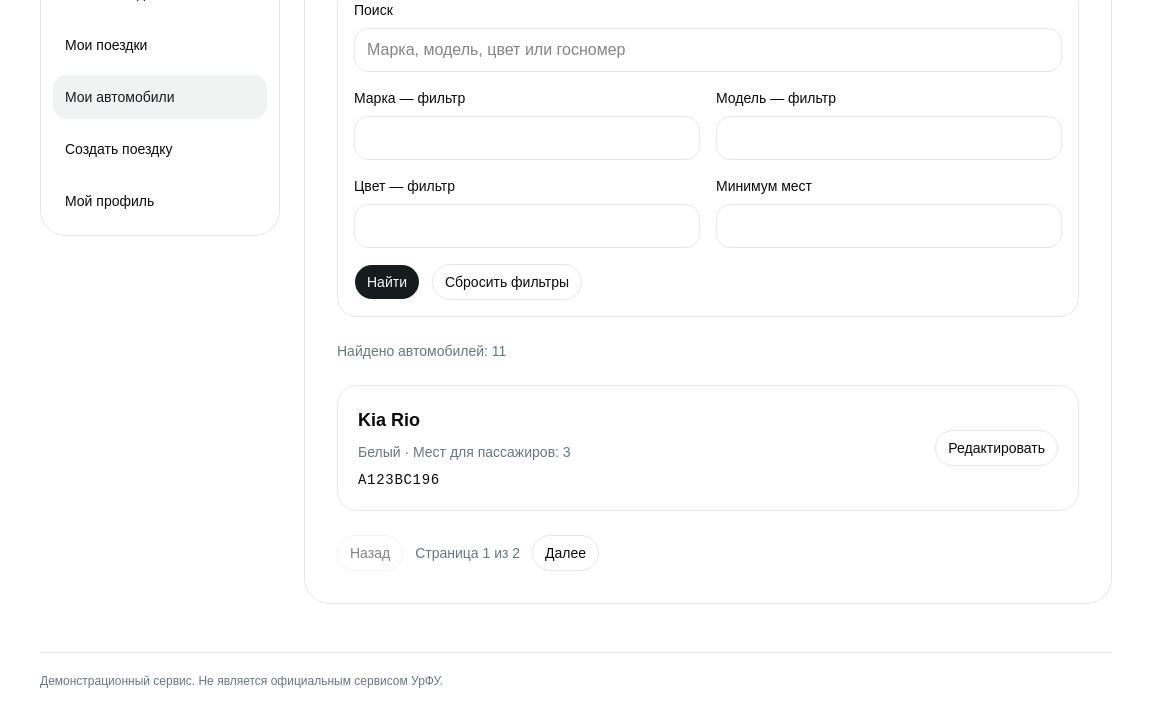
Экран автомобилей › переключает страницы списка
(page scrolled)
Click the button "Далее": click(566, 553) [532,535,599,571]
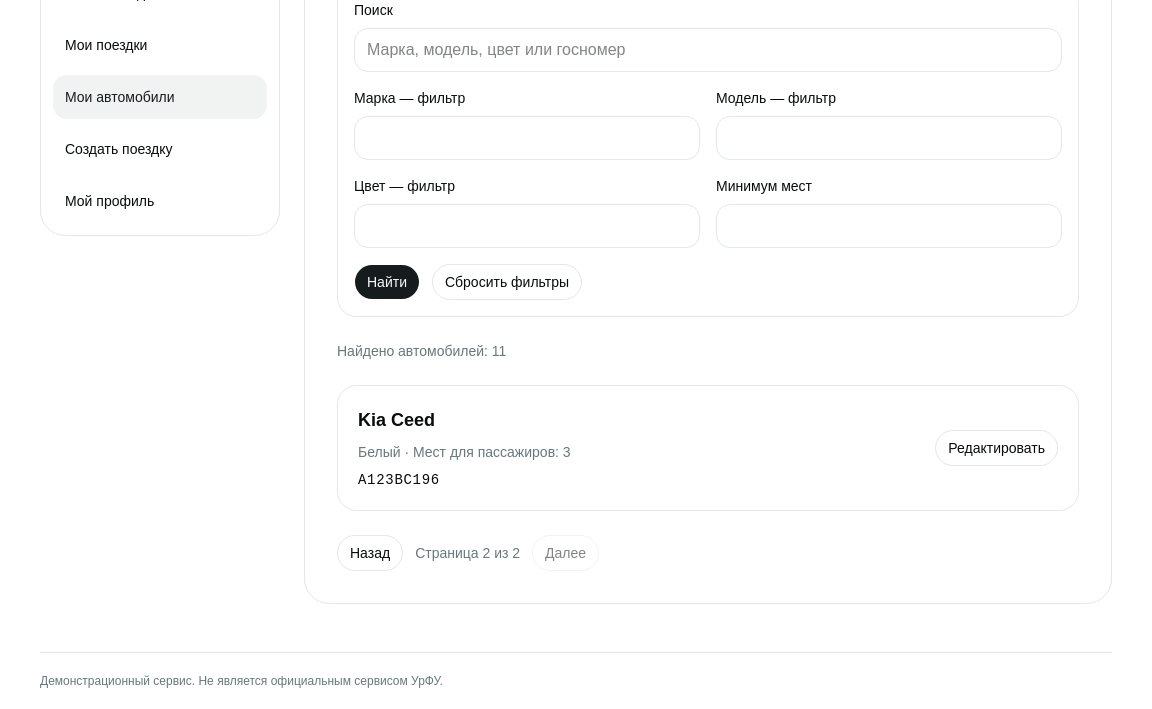
Now the heading "Kia Ceed" is shown, box [358,410,435,430]
Now the button "Далее" is disabled, box [532,535,599,571]
